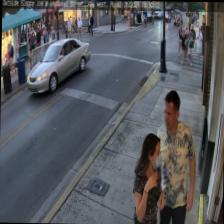person: (155, 89, 195, 224), (132, 131, 164, 224)
